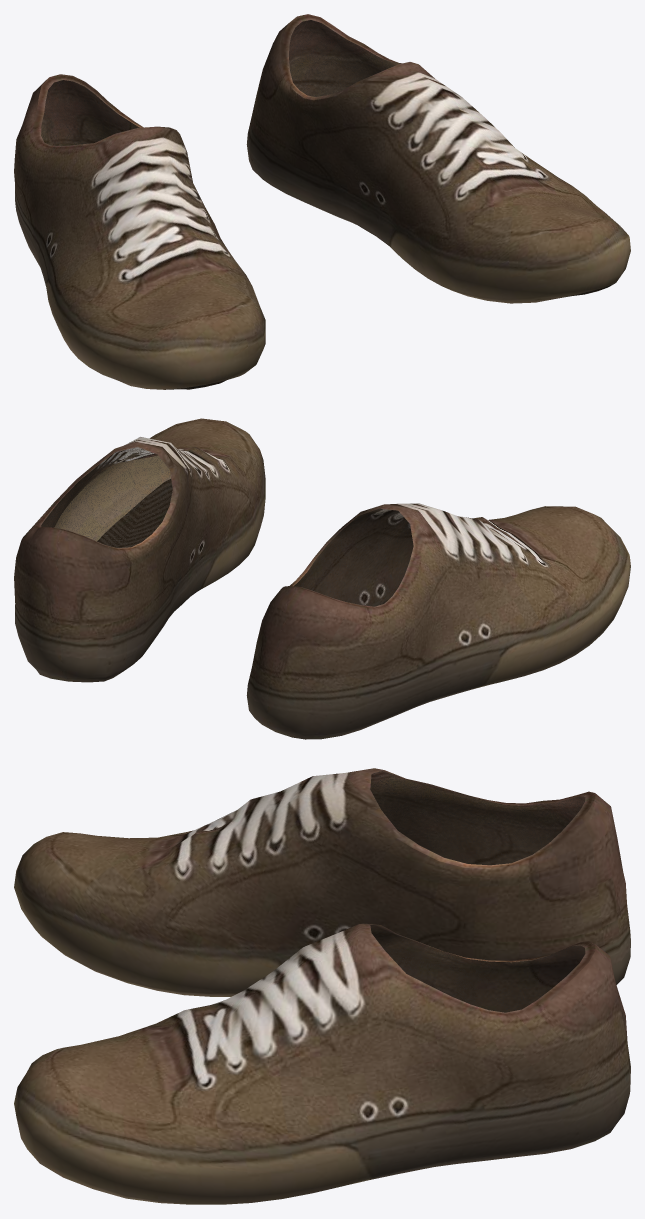
File: men_shoe.dae
3 renders of one model, top to bottom at view 1: azimuth 30°, elevation 25°; view 2: azimuth 150°, elevation 25°; view 3: azimuth 270°, elevation 25°, orthographic. The views are drawn at different scales.
Visible parts, largest first — view 1: skp3267 (×2); view 2: skp3267 (×2); view 3: skp3267 (×2).
Part boxes in pixels (x1,y1,x2,y2): skp3267 (×2): [14, 14, 630, 389]; skp3267 (×2): [14, 418, 630, 739]; skp3267 (×2): [14, 768, 630, 1204].
Size of the model in its own units: 17.79 by 14.67 by 5.6.
2 materials, 1 textured.
